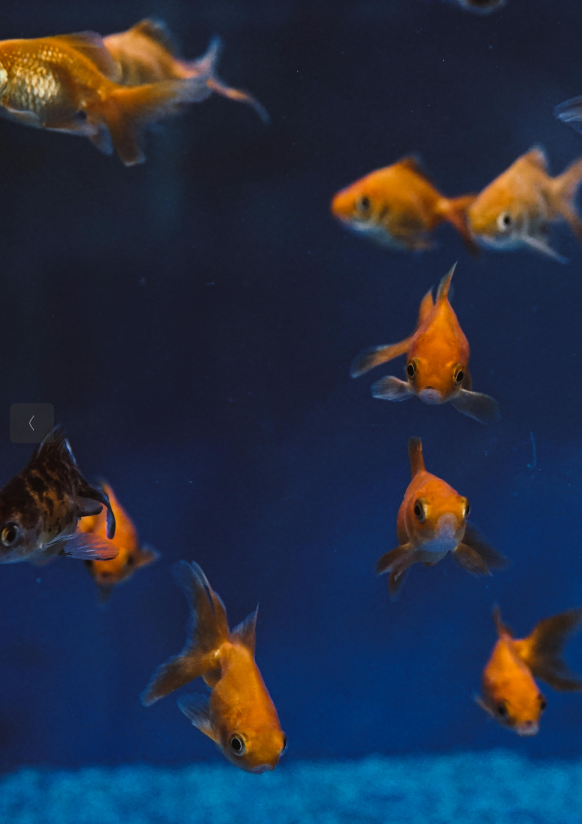fishSmall: (140, 562, 289, 778), (350, 262, 508, 430), (0, 77, 273, 169), (373, 436, 511, 608), (2, 420, 119, 586), (472, 600, 580, 736), (326, 159, 474, 254), (471, 146, 581, 268), (67, 467, 158, 597)
